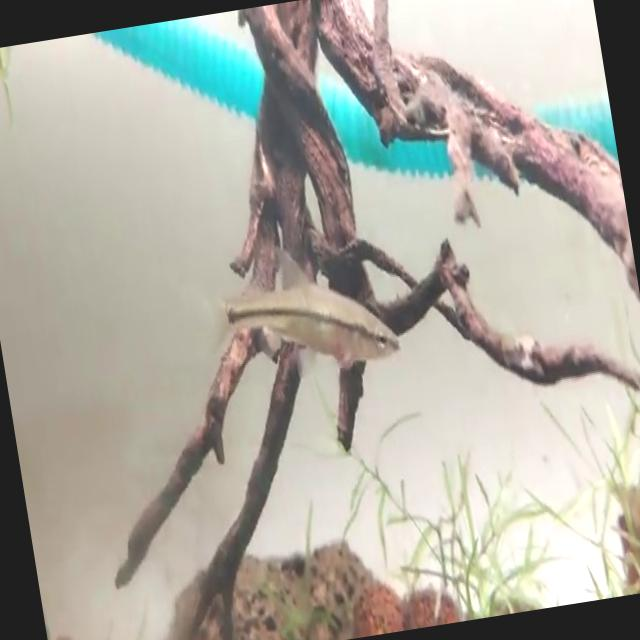Cakil Baligi: (188, 225, 404, 395)
